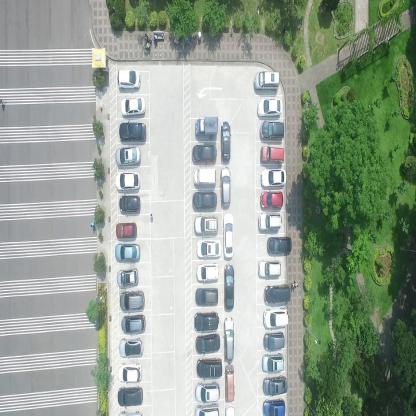car: (263, 284, 291, 308), (118, 121, 147, 144), (222, 315, 235, 363), (223, 262, 235, 312), (119, 290, 145, 313), (191, 190, 218, 212), (114, 146, 141, 168), (119, 337, 144, 360), (254, 70, 280, 92), (256, 96, 282, 118), (194, 380, 220, 402), (195, 239, 222, 260), (196, 358, 223, 379), (116, 69, 140, 92), (117, 384, 143, 405), (193, 310, 220, 330), (193, 167, 217, 189), (194, 214, 218, 236), (264, 309, 290, 329), (120, 97, 146, 117), (115, 172, 141, 192), (120, 314, 146, 334), (260, 169, 287, 188), (191, 143, 218, 162), (194, 115, 218, 136), (118, 362, 142, 383), (260, 120, 285, 140), (263, 376, 288, 396), (115, 244, 140, 264), (223, 215, 234, 260), (195, 335, 221, 354), (220, 119, 231, 163), (196, 262, 219, 283), (258, 210, 282, 230), (258, 258, 282, 278), (266, 236, 292, 254), (261, 145, 284, 165), (261, 352, 284, 372), (262, 331, 286, 350), (259, 191, 284, 209), (194, 288, 219, 306), (221, 166, 231, 210), (118, 268, 140, 288), (118, 195, 141, 214), (115, 221, 138, 240), (224, 365, 235, 403), (263, 397, 286, 415), (192, 403, 221, 415)
